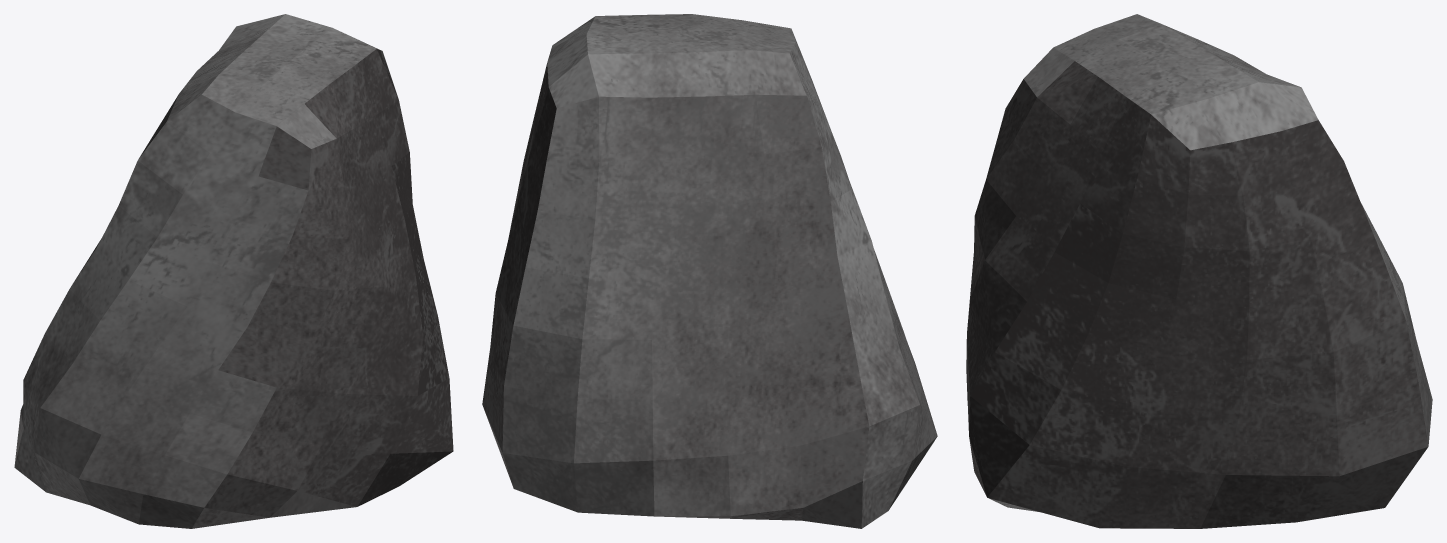
The model's file is pointy lower poly rocks.fbx.
The picture shows the model from 3 angles, left to right: view 1: azimuth 30°, elevation 25°; view 2: azimuth 150°, elevation 25°; view 3: azimuth 270°, elevation 25°; orthographic projection. The views are drawn at different scales.
Parts seen in each view (by area): view 1: rock 2 2.0; view 2: rock 2 2.0; view 3: rock 2 2.0.
Boxes of the visible parts, x1,y1,x2,y2 form: rock 2 2.0: (14, 14, 453, 528); rock 2 2.0: (482, 14, 937, 528); rock 2 2.0: (966, 14, 1432, 528).
Size of the model in its own units: 191 by 205 by 199.
